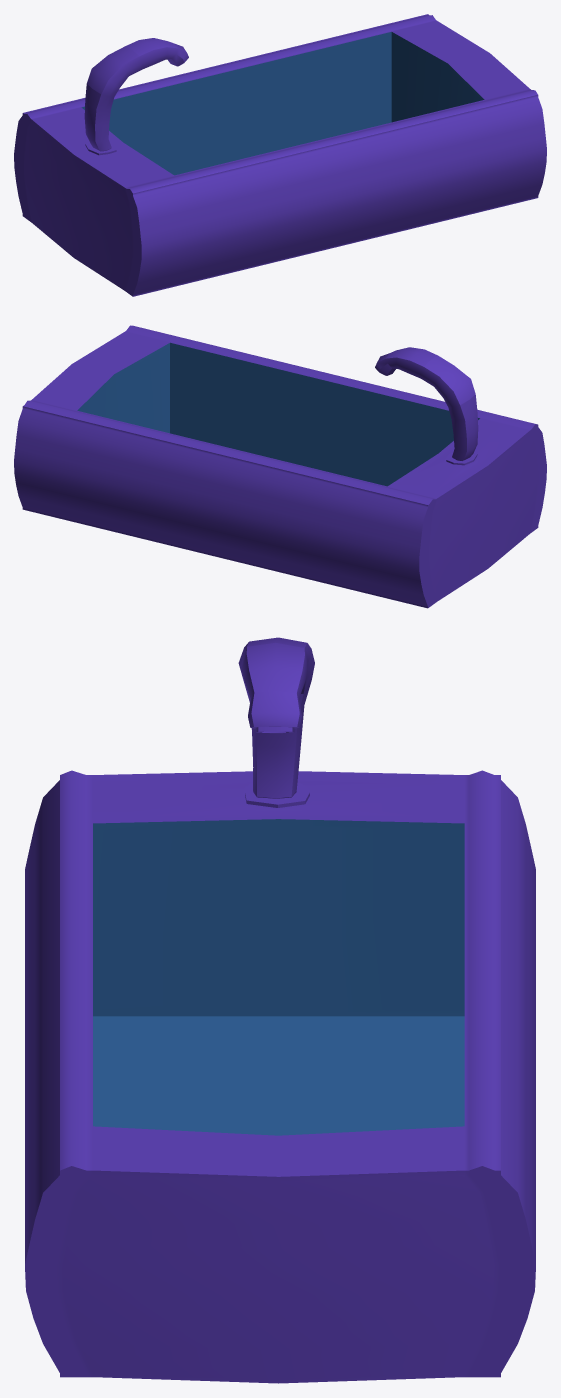
File: BathTub FBX 2 .fbx
3 renders of one model, top to bottom at view 1: azimuth 30°, elevation 25°; view 2: azimuth 150°, elevation 25°; view 3: azimuth 270°, elevation 25°, orthographic. The views are drawn at different scales.
Visible parts, largest first — view 1: polySurface1; view 2: polySurface1; view 3: polySurface1.
Part boxes in pixels (x1,y1,x2,y2): polySurface1: (14,14,546,296); polySurface1: (14,325,546,608); polySurface1: (25,637,535,1383).
Size of the model in its own units: 6.36 by 2.89 by 3.38.
